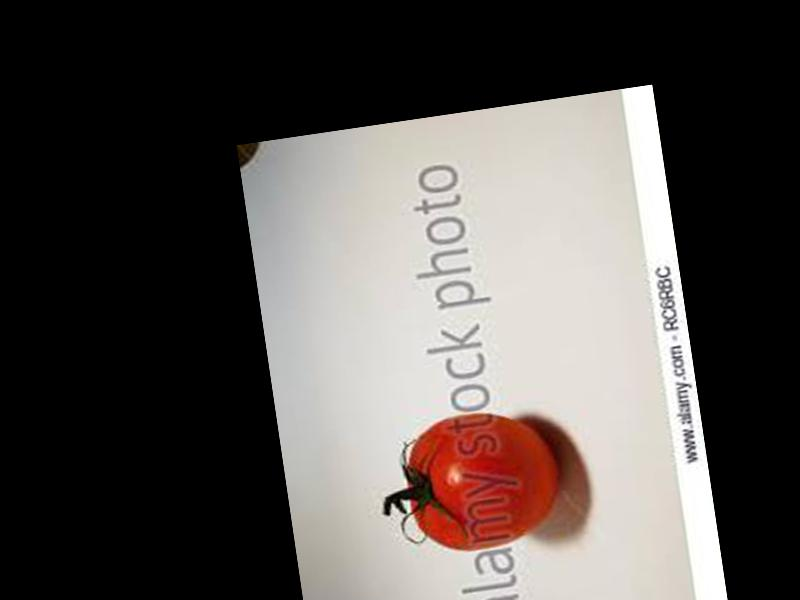Tomato: (396, 402, 565, 558)
